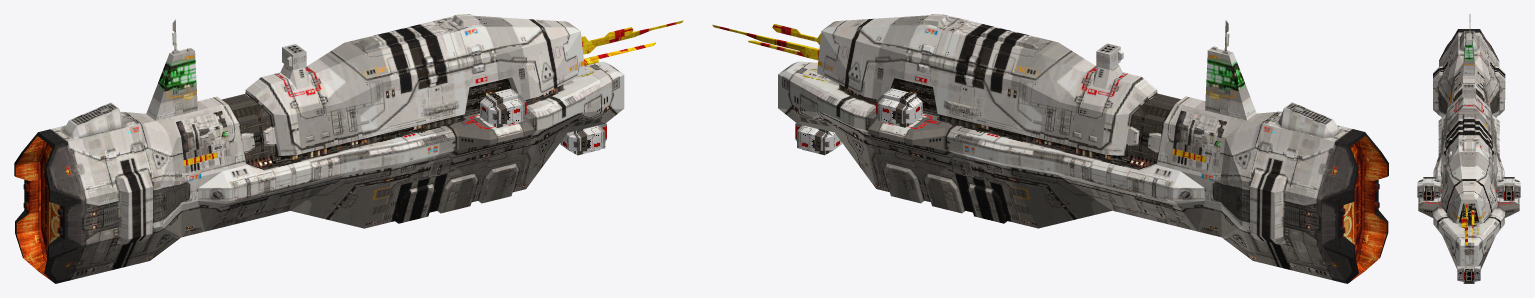
File: Eriax_Heavy_Frigate.FBX
The picture shows the model from 3 angles, left to right: view 1: azimuth 30°, elevation 25°; view 2: azimuth 150°, elevation 25°; view 3: azimuth 270°, elevation 25°; orthographic projection. The views are drawn at different scales.
Visible parts, largest first — view 1: group2, group1, group21, group3, group11, group4, group14, group12, group15; view 2: group2, group1, group21, group3, group11, group4, group13, group12, group15; view 3: group2, group1, group21, group13, group14, group12, group4, group11, group15.
Boxes of the visible parts, box(x1,y1,x2,y2) form: group2: box(146, 27, 624, 231); group1: box(38, 15, 683, 283); group21: box(63, 14, 479, 244); group3: box(14, 132, 64, 282); group11: box(305, 44, 518, 223); group4: box(176, 111, 230, 172); group14: box(480, 88, 526, 127); group12: box(560, 123, 606, 155); group15: box(282, 43, 306, 70); group2: box(778, 26, 1256, 231); group1: box(712, 14, 1364, 283); group21: box(922, 14, 1339, 244); group3: box(1338, 132, 1388, 283); group11: box(883, 44, 1096, 223); group4: box(1172, 110, 1226, 172); group13: box(876, 88, 922, 127); group12: box(795, 123, 841, 155); group15: box(1096, 43, 1120, 69); group2: box(1418, 40, 1519, 269); group1: box(1439, 29, 1499, 245); group21: box(1433, 14, 1505, 151); group13: box(1497, 177, 1520, 200); group14: box(1417, 177, 1440, 200); group12: box(1457, 265, 1480, 283); group4: box(1448, 71, 1489, 106); group11: box(1440, 128, 1497, 176); group15: box(1462, 84, 1475, 97).
Bounding box in the file's own units: 158 × 57.16 × 34.71.
